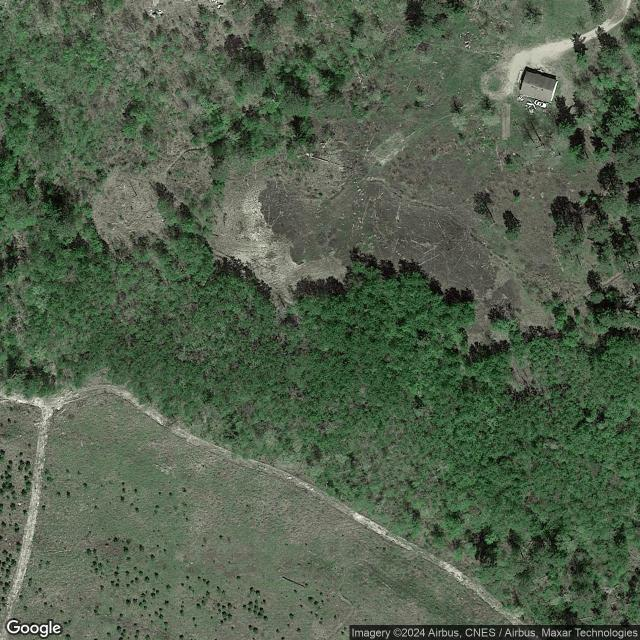Propane: (526, 100, 534, 106)
